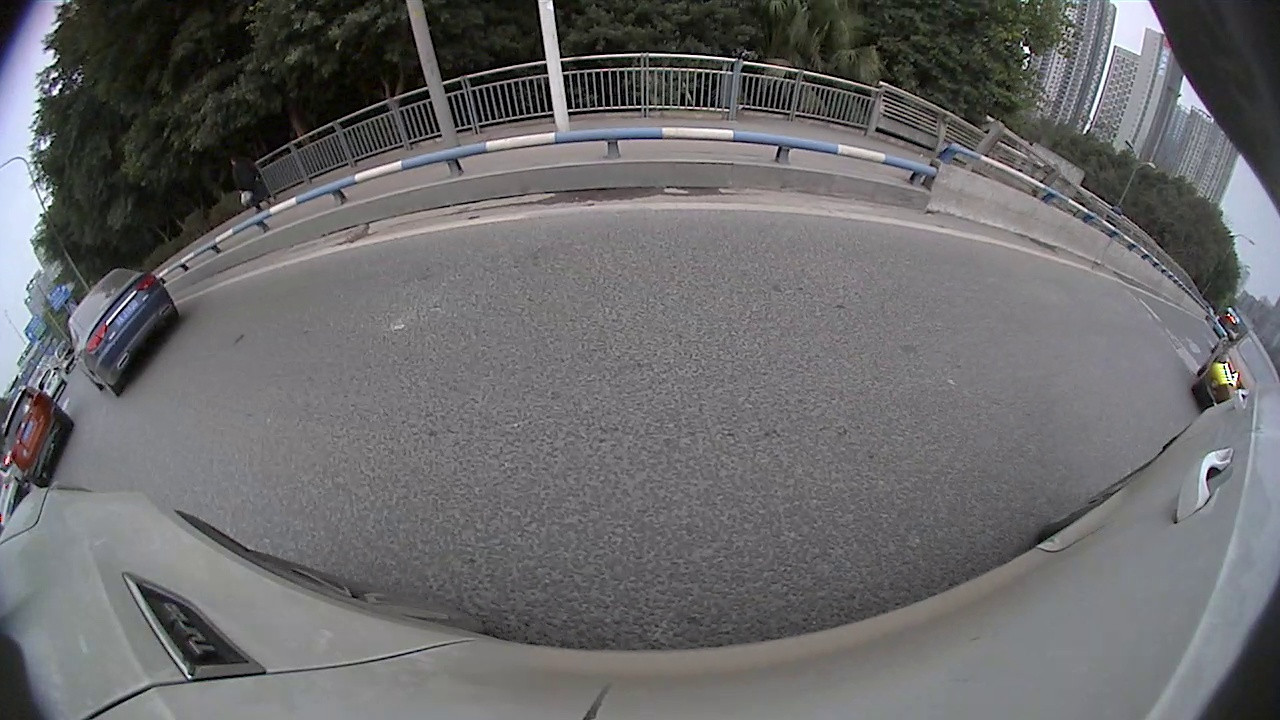car: (64, 266, 182, 399), (1192, 329, 1278, 424), (3, 385, 75, 489), (0, 462, 26, 534), (33, 364, 63, 399), (48, 339, 79, 369)
front: (1188, 375, 1214, 398)
person: (228, 153, 269, 236)
rear: (94, 370, 120, 401), (166, 305, 184, 329), (56, 414, 78, 433), (1192, 360, 1214, 378), (29, 472, 49, 490)
